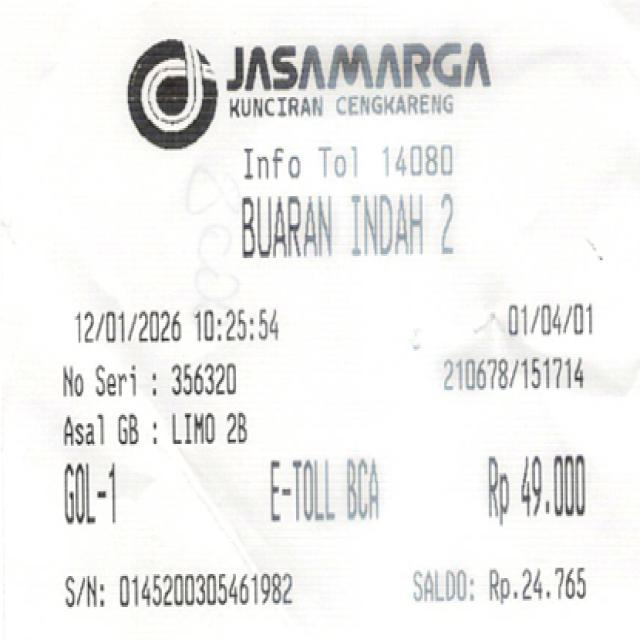date: (64, 304, 286, 347)
store: (156, 39, 537, 120)
total: (473, 448, 592, 528)
